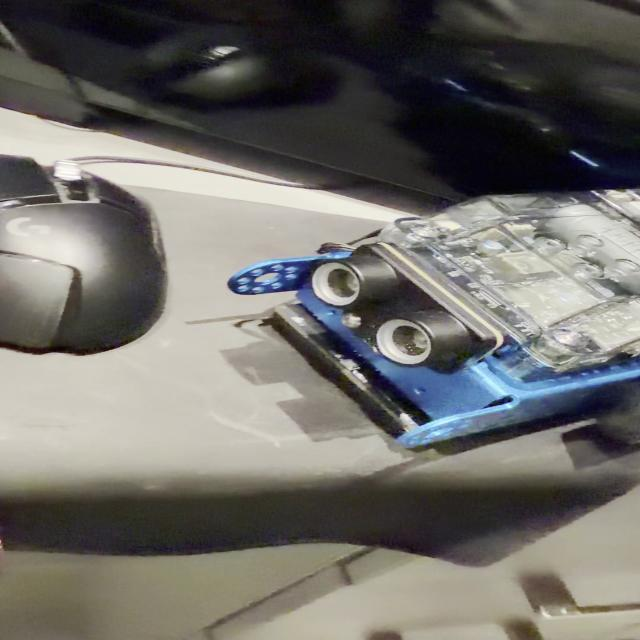mbot-detection: (215, 178, 640, 465)
